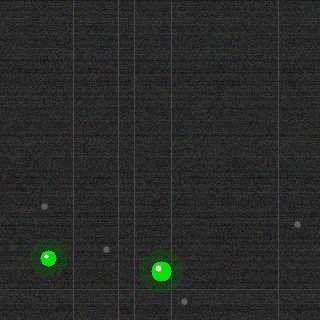green_normal: (149, 259, 173, 283), (38, 248, 58, 268)
